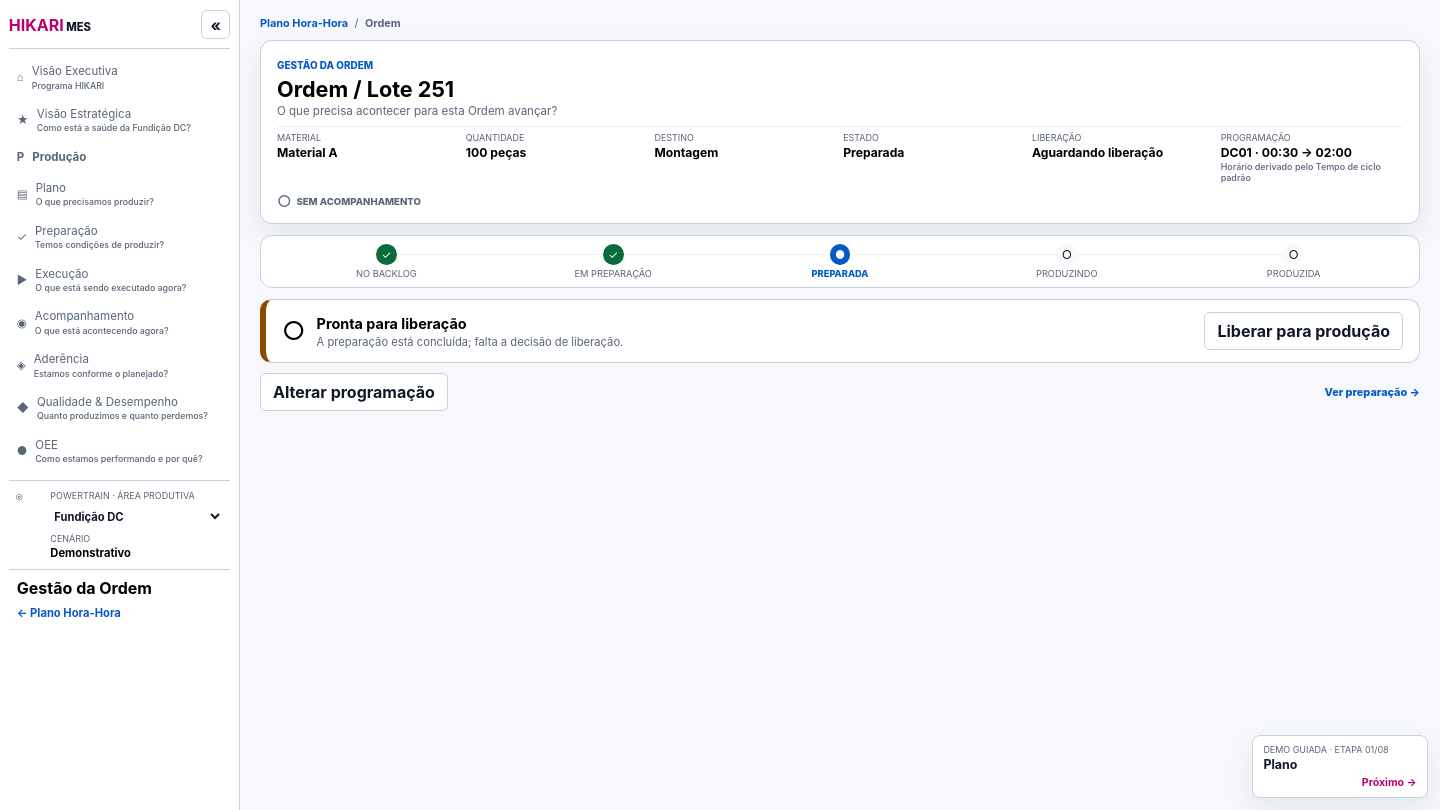
Test case: Cena B: manually releases Lote 251 through the confirmation panel
Click the button "Liberar para produção" at (1304, 331), box x1=1204 y1=312 x2=1403 y2=350
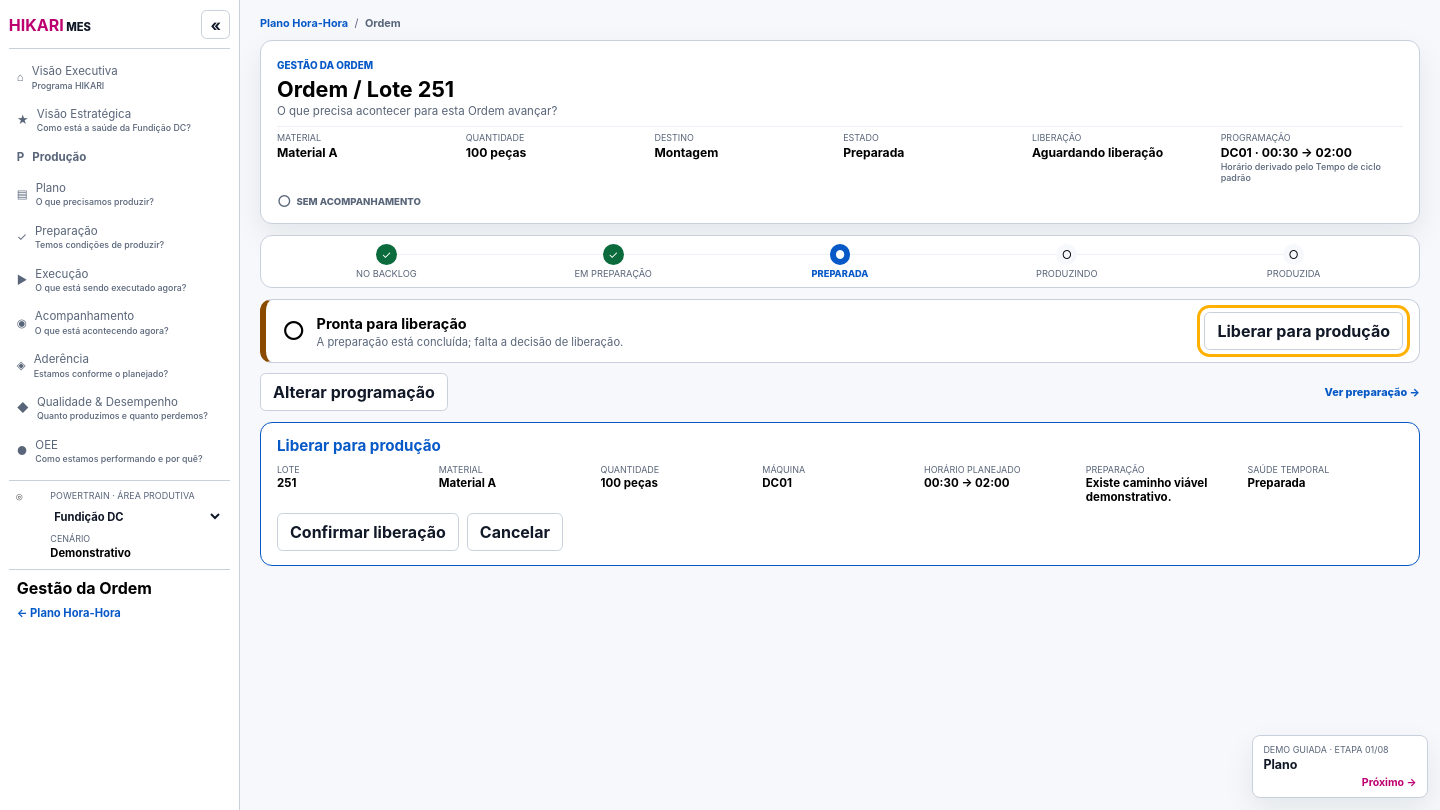
Expected: the element named "Confirmar liberação" shows "DC01", x1=762 y1=476 x2=792 y2=490
Click the button "Confirmar liberação" at (368, 532), box x1=277 y1=513 x2=459 y2=551
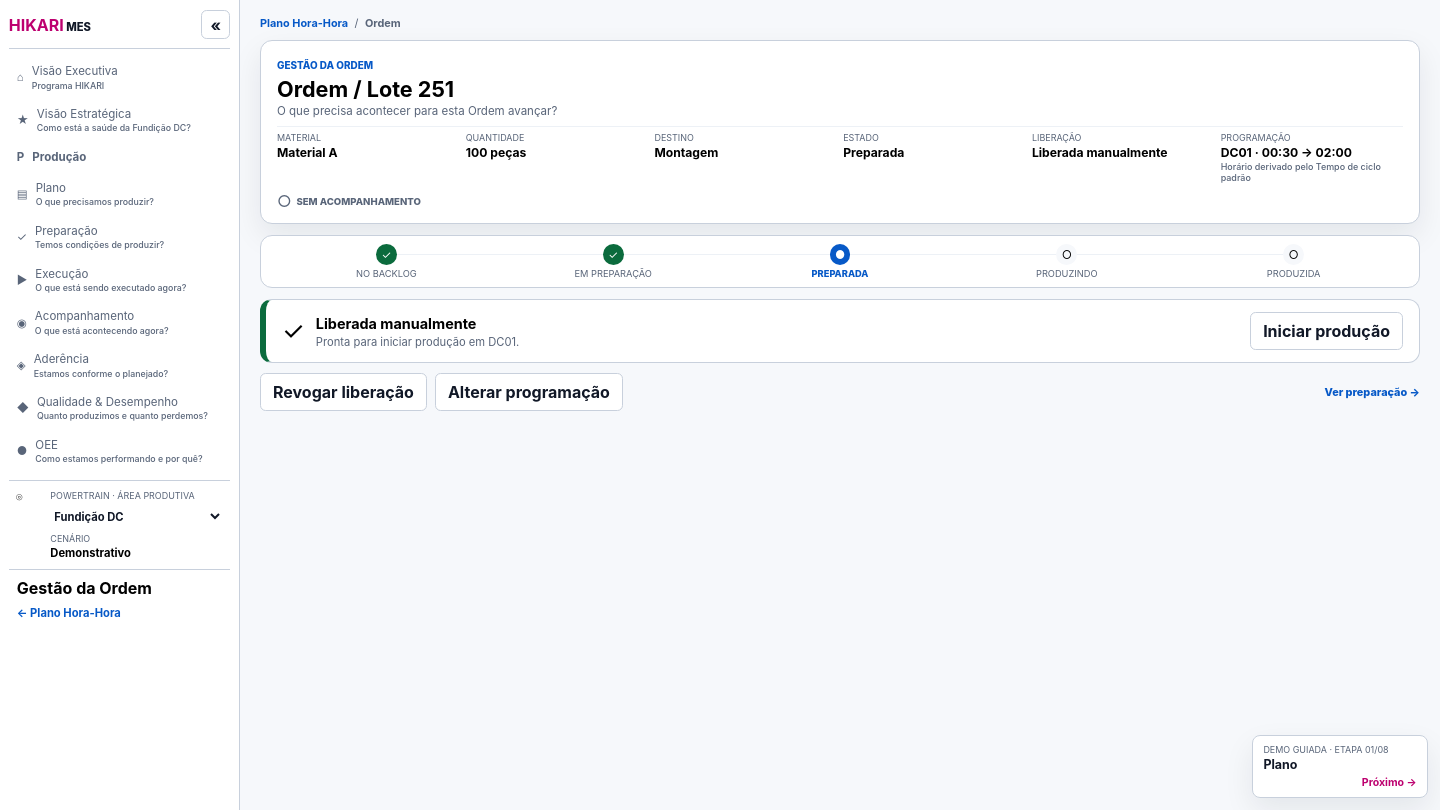
Expected: the text "Material" shows "Liberada manualmente", x1=1032 y1=145 x2=1168 y2=160
